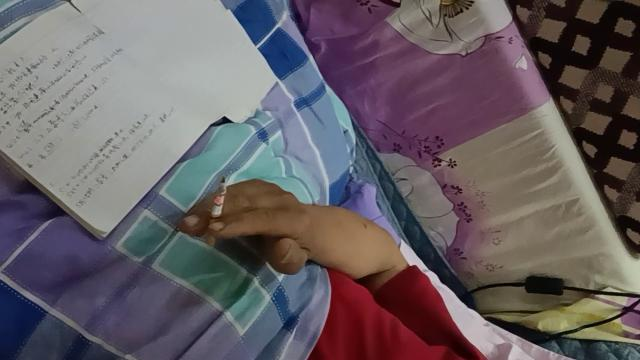Smoking: (205, 176, 228, 246)
